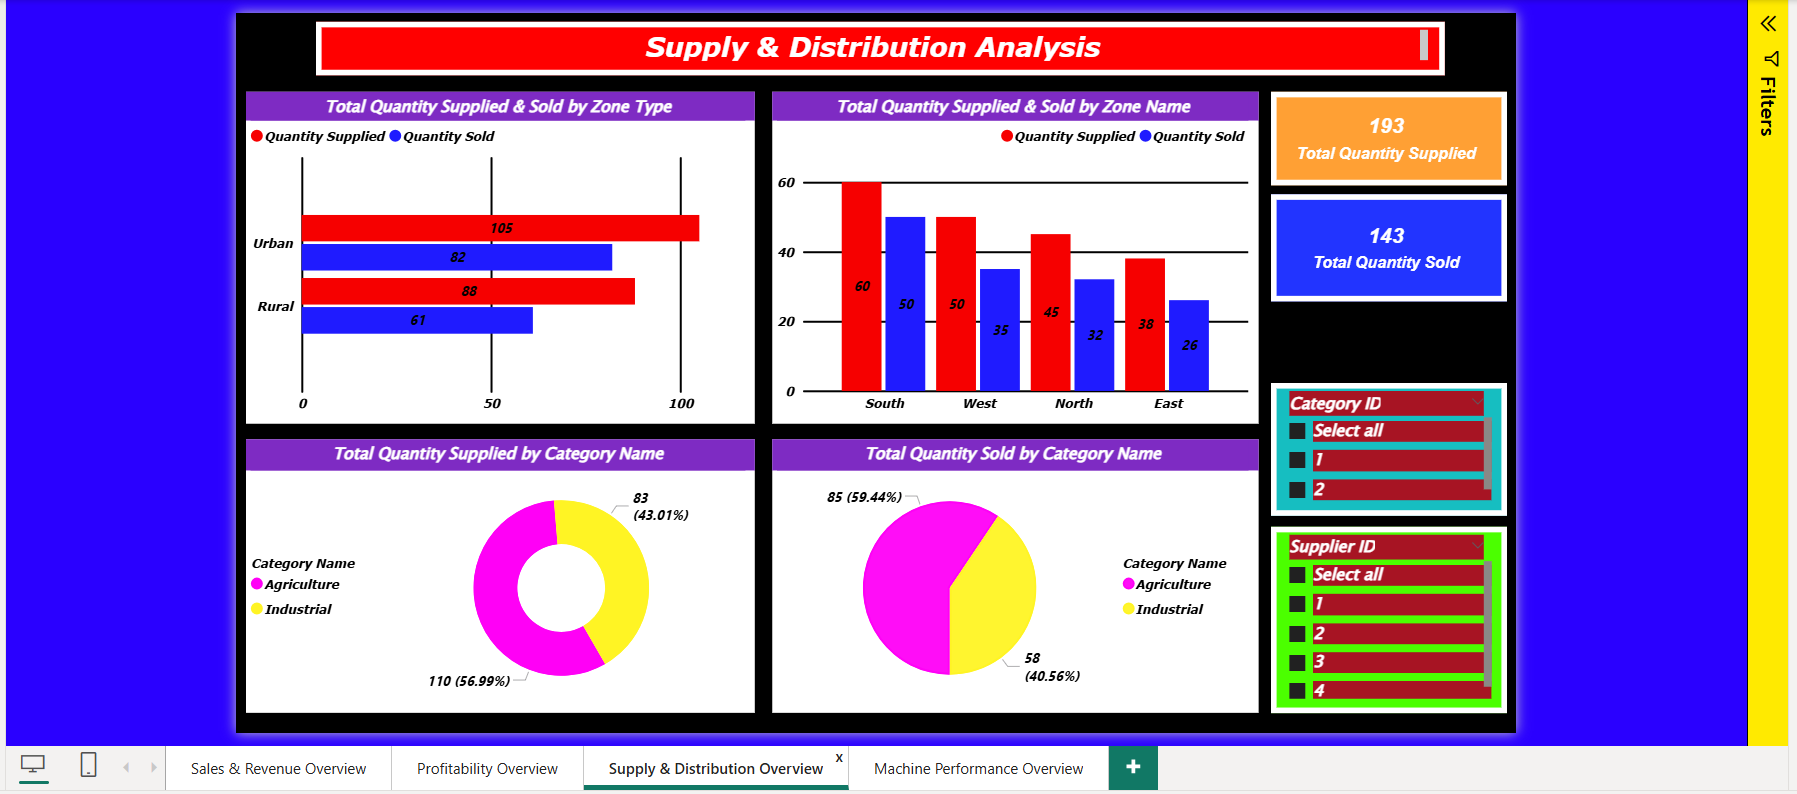

Layout of this report page (visuals, bound fields, positions):
{"tool":"powerbi","page":{"name":"Supply & Distribution Overview","canvas":[1280,720],"ordinal":2},"visuals":[{"type":"pieChart","title":"Total Quantity Sold by Category Name","fields":{"Category":["Category_Metrics.Category Name"],"Y":["Sum(Sales_Records.Quantity Sold)"]},"box":[536.9,425.9,486.2,273.9],"z":0},{"type":"clusteredColumnChart","title":"Total Quantity Supplied & Sold by Zone Name","fields":{"Category":["Zone_Overview.Zone Name"],"Y":["Sum(Suppliers_Profile.Quantity Supplied)","Sum(Sales_Records.Quantity Sold)"]},"box":[536.9,78.4,486.2,331.8],"z":1000},{"type":"card","fields":{"Values":["Sum(Sales_Records.Quantity Sold)"]},"box":[1035,181.2,236.2,107.5],"z":2000},{"type":"card","fields":{"Values":["Sum(Suppliers_Profile.Quantity Supplied)"]},"box":[1035,78.8,236.2,93.8],"z":3000},{"type":"textbox","box":[80,8.8,1128.8,53.8],"z":6000},{"type":"slicer","fields":{"Values":["Category_Metrics.Category ID"]},"box":[1035,370,236.2,132.5],"z":7000},{"type":"slicer","fields":{"Values":["Suppliers_Profile.Supplier ID"]},"box":[1035,513.8,236.2,186.2],"z":8000},{"type":"donutChart","title":"Total Quantity Supplied by Category Name","fields":{"Category":["Category_Metrics.Category Name"],"Y":["Sum(Suppliers_Profile.Quantity Supplied)"]},"box":[9.7,425.9,509.1,273.9],"z":9000},{"type":"clusteredBarChart","title":"Total Quantity Supplied & Sold by Zone Type","fields":{"Category":["Zone_Overview.Zone Type"],"Y":["Sum(Suppliers_Profile.Quantity Supplied)","Sum(Sales_Records.Quantity Sold)"]},"box":[9.7,78.4,509.1,331.8],"z":10000}]}

Visuals, with their boxes on the page's 1280x720 design canvas (x1, y1, x2, y2). These are canvas units, not pixel positions in the 1797x794 screenshot, which may show the page scaled, cropped or inside an application window:
"Total Quantity Sold by Category Name" pieChart: BBox(537, 426, 1023, 700)
"Total Quantity Supplied & Sold by Zone Name" clusteredColumnChart: BBox(537, 78, 1023, 410)
card - Sum(Sales_Records.Quantity Sold): BBox(1035, 181, 1271, 289)
card - Sum(Suppliers_Profile.Quantity Supplied): BBox(1035, 79, 1271, 173)
textbox: BBox(80, 9, 1209, 63)
slicer - Category_Metrics.Category ID: BBox(1035, 370, 1271, 502)
slicer - Suppliers_Profile.Supplier ID: BBox(1035, 514, 1271, 700)
"Total Quantity Supplied by Category Name" donutChart: BBox(10, 426, 519, 700)
"Total Quantity Supplied & Sold by Zone Type" clusteredBarChart: BBox(10, 78, 519, 410)
